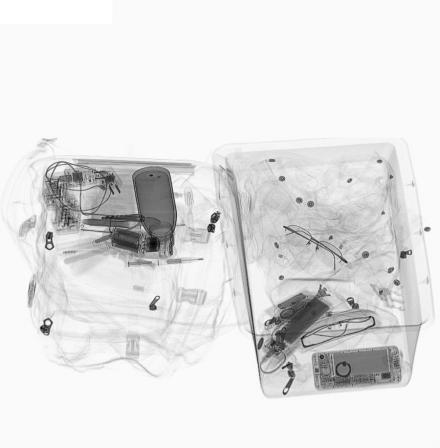Powerbank: (272, 290, 323, 329)
